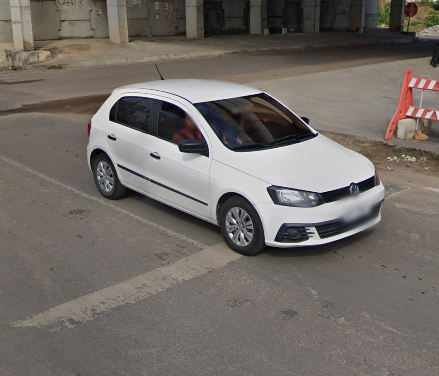car: (83, 62, 387, 260)
